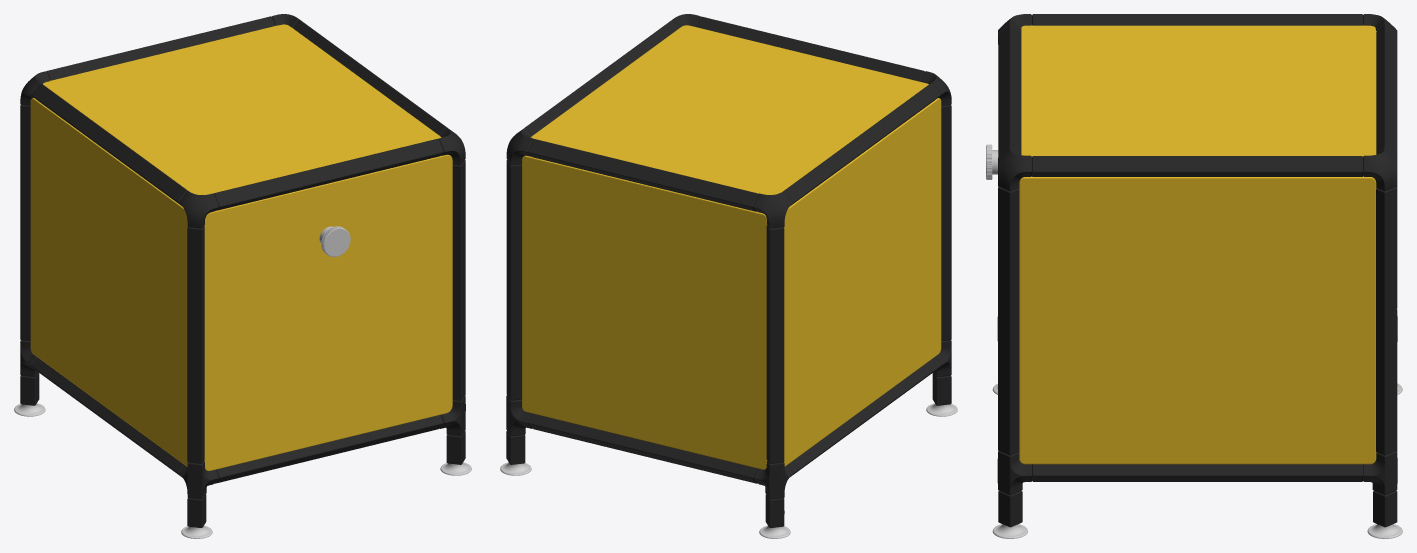
3 renders of one model, left to right at view 1: azimuth 30°, elevation 25°; view 2: azimuth 150°, elevation 25°; view 3: azimuth 270°, elevation 25°, orthographic. The views are drawn at different scales.
Parts seen in each view (by area): view 1: 329x374x329; view 2: 329x374x329; view 3: 329x374x329.
Boxes of the visible parts, box(x1,y1,x2,y2) form: 329x374x329: box(14, 14, 471, 538); 329x374x329: box(500, 14, 957, 538); 329x374x329: box(986, 14, 1402, 538).
Bounding box in the file's own units: 0.4189 × 0.4683 × 0.4707.
